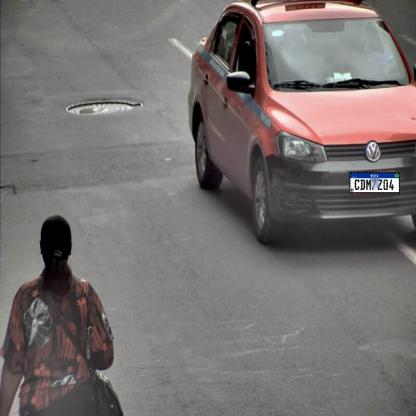PlacaM: (349, 172, 400, 193)
